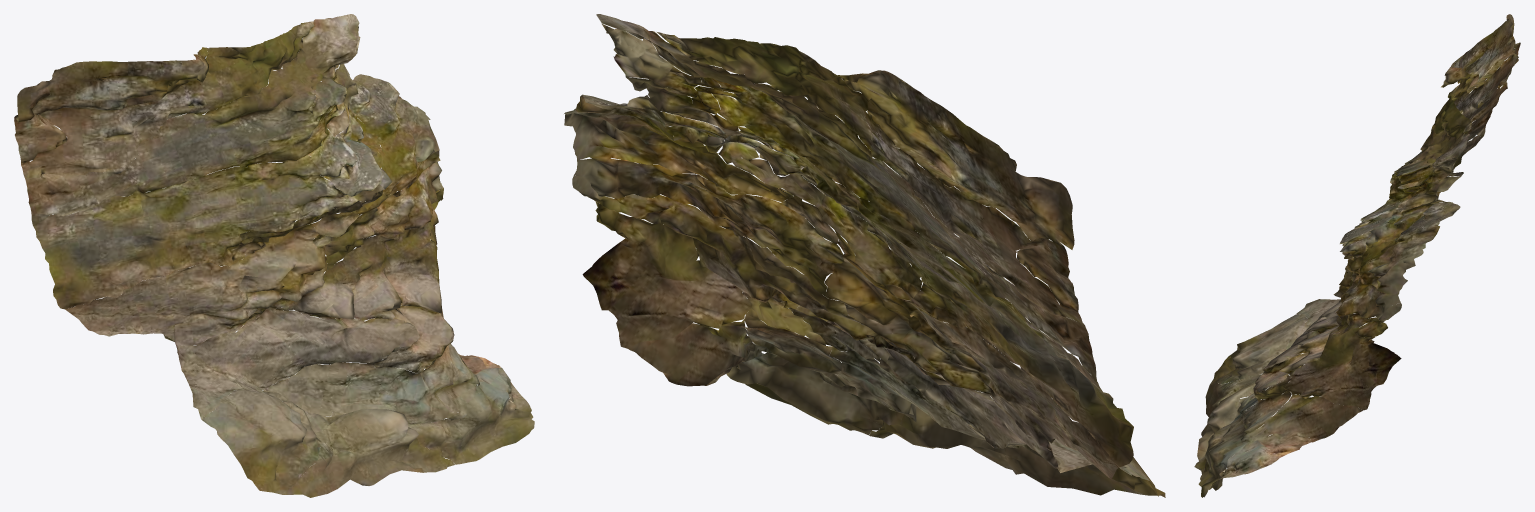
Rendered from rock-menu.glb.
3 views of the same model, side by side, from view 1: azimuth 30°, elevation 25°; view 2: azimuth 150°, elevation 25°; view 3: azimuth 270°, elevation 25° (orthographic). The views are drawn at different scales.
Visible parts, largest first — view 1: rock_face_02; view 2: rock_face_02; view 3: rock_face_02.
Part boxes in pixels (x1,y1,x2,y2): rock_face_02: (14,14,534,497); rock_face_02: (564,14,1165,497); rock_face_02: (1194,14,1520,497).
Bounding box in the file's own units: 2.71 × 2.48 × 2.13.
1 material, 1 textured.
